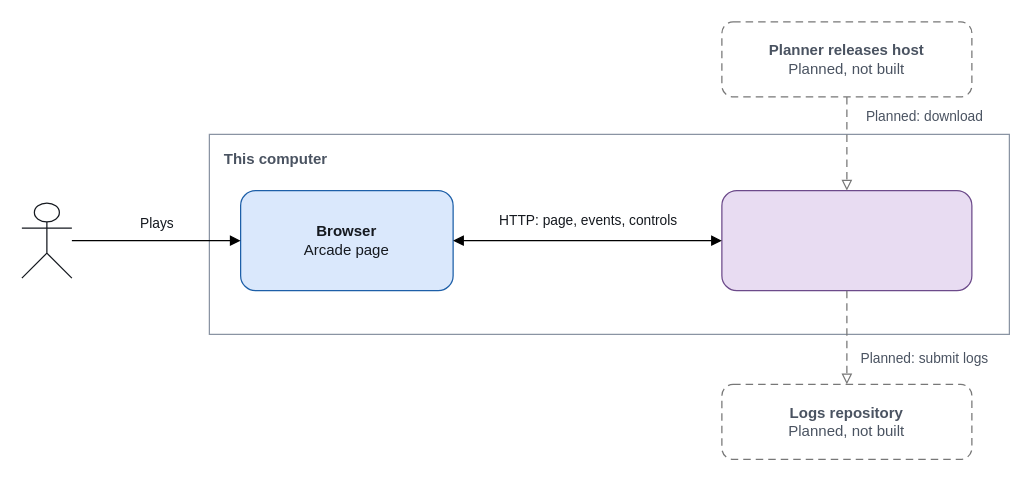
This 1031x481 diagram has some shape labels left out. The shapes that lost their labels are listed below. From the top down, each one's centre as x and y in pixels, then its label:
At pixel 46 240: "Player".
At pixel 846 240: "Local server chasetag-arena serve Game and HTTP".
